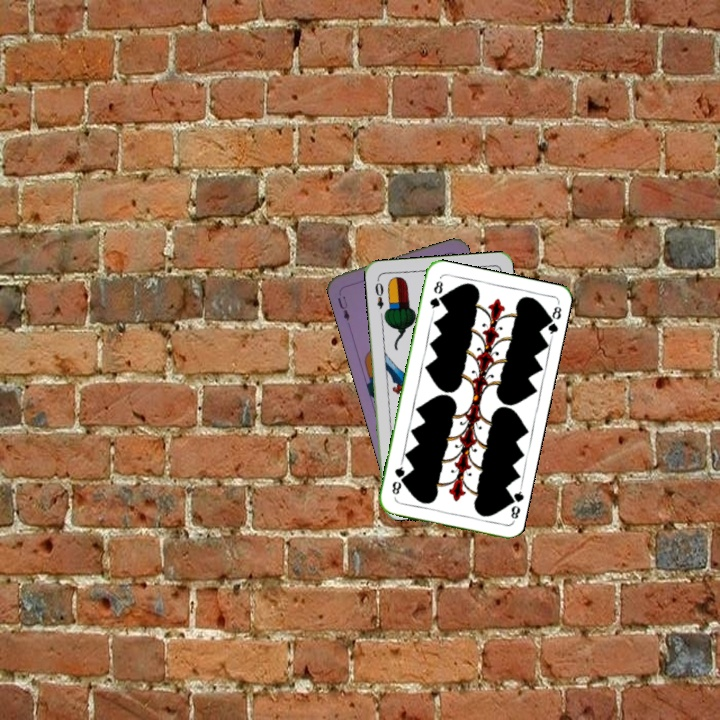EO: (371, 279, 386, 311)
EU: (333, 292, 352, 323)
G8: (503, 484, 526, 525), (426, 277, 445, 315)
